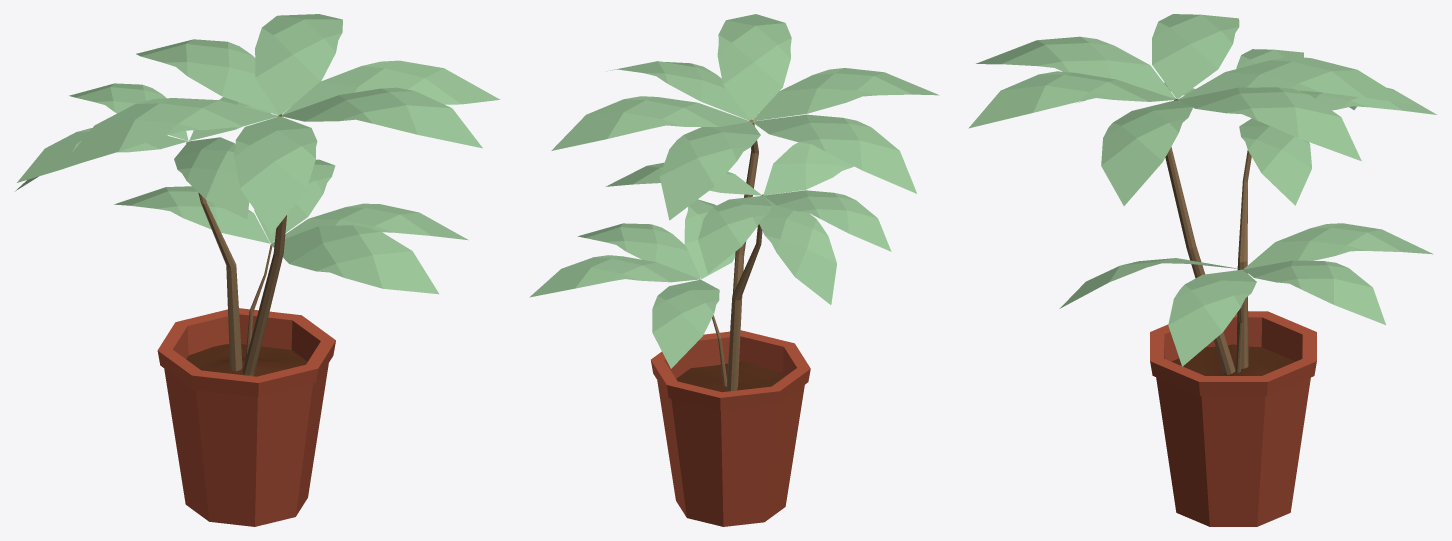
File: plant.fbx
The picture shows the model from 3 angles, left to right: view 1: azimuth 30°, elevation 25°; view 2: azimuth 150°, elevation 25°; view 3: azimuth 270°, elevation 25°; orthographic projection. The views are drawn at different scales.
Parts seen in each view (by area): view 1: plant; view 2: plant; view 3: plant.
Boxes of the visible parts, x1,y1,x2,y2 form: plant: (15,14,500,526); plant: (529,14,939,526); plant: (968,14,1436,526).
Bounding box in the file's own units: 514 × 545 × 516.
